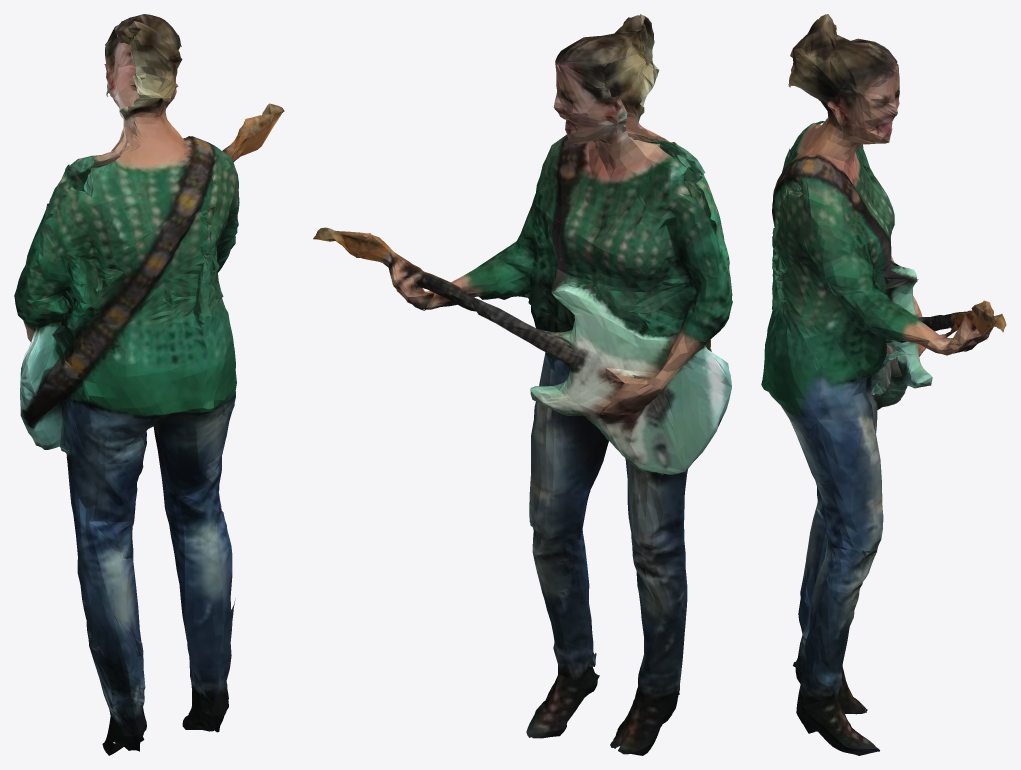
The picture shows the model from 3 angles, left to right: view 1: azimuth 30°, elevation 25°; view 2: azimuth 150°, elevation 25°; view 3: azimuth 270°, elevation 25°; orthographic projection. The views are drawn at different scales.
Parts seen in each view (by area): view 1: dec_0003; view 2: dec_0003; view 3: dec_0003.
Part boxes in pixels (x1,y1,x2,y2): dec_0003: (14,14,284,755); dec_0003: (313,14,732,755); dec_0003: (761,14,1006,755).
Size of the model in its own units: 0.8449 by 1.74 by 0.549.
1 material, 1 textured.
